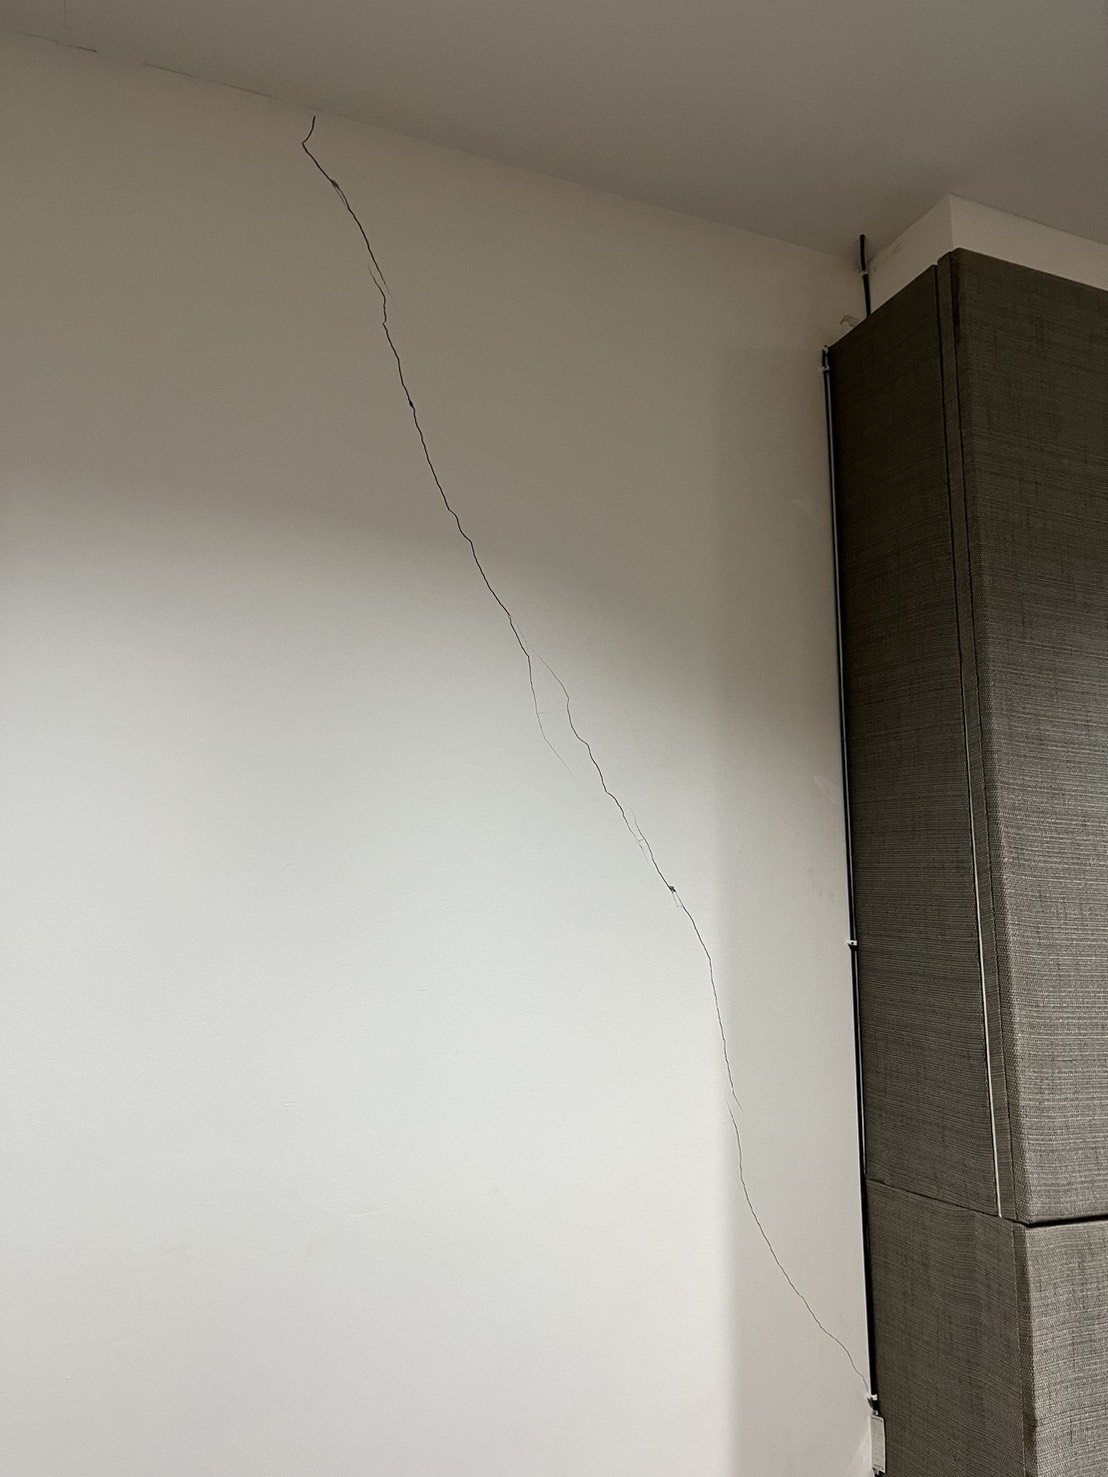Low: (257, 102, 876, 1456)
